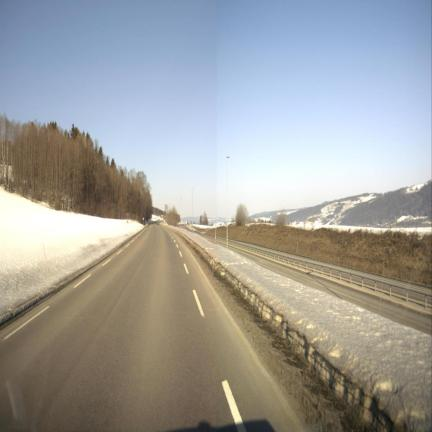Road: (0, 225, 303, 430)
